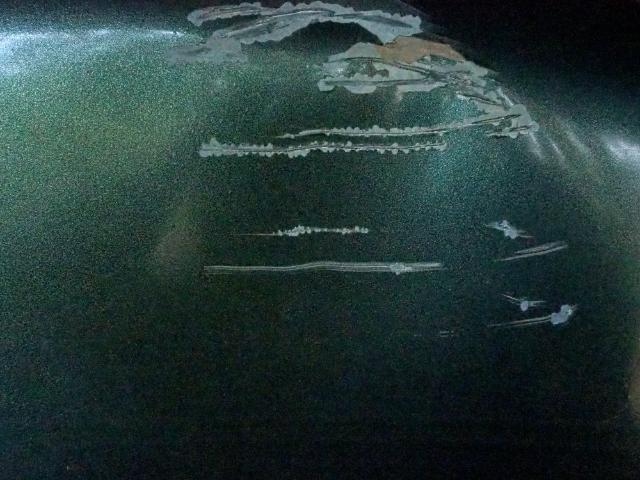rub: (177, 0, 581, 343)
